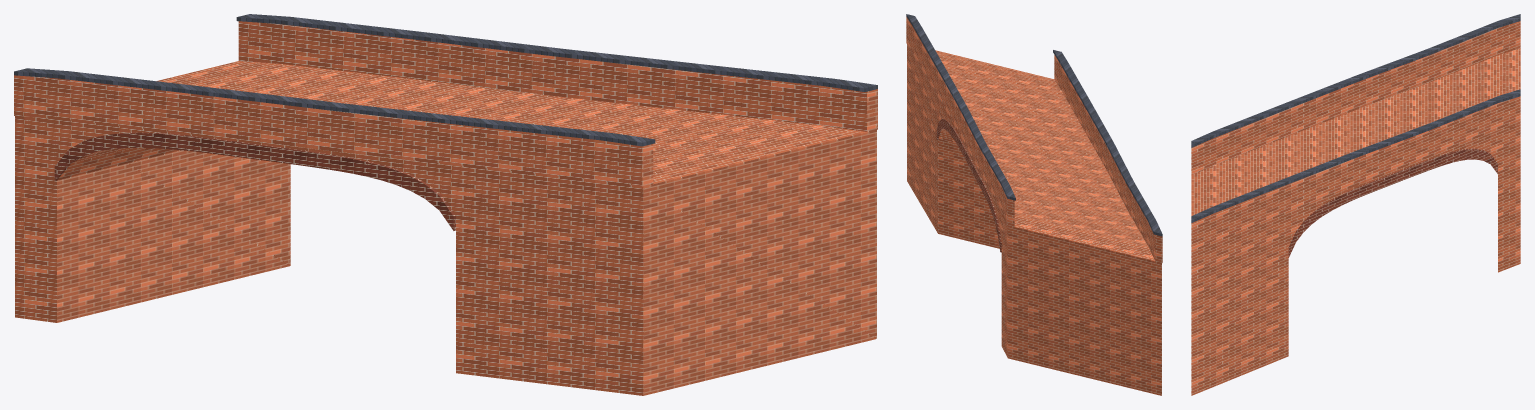
File: bridge-5.glb
3 views of the same model, side by side, from view 1: azimuth 30°, elevation 25°; view 2: azimuth 150°, elevation 25°; view 3: azimuth 270°, elevation 25° (orthographic). The views are drawn at different scales.
Visible parts, largest first — view 1: Masonry, Masonry.041, Masonry.001, Masonry.002, Masonry.005, Masonry.003, Masonry.004, Masonry.006, Masonry.007, Masonry.008, Masonry.009, Masonry.010 (+12 smaller); view 2: Masonry.043, Masonry.012, Masonry.042, Masonry.041, Masonry.002, Masonry.008, Masonry.006, Masonry.003, Masonry.004, Masonry.005, Masonry.007, Masonry.010 (+34 smaller); view 3: Masonry.007, Masonry.009, Masonry.011, Masonry.002, Masonry.004, Masonry.001, Masonry.005, Masonry.006, Masonry.003, Masonry.008, Masonry, Masonry.010 (+32 smaller).
Boxes of the visible parts, x1,y1,x2,y2 form: Masonry: (629,130,876,395); Masonry.041: (43,63,290,322); Masonry.001: (614,128,851,394); Masonry.002: (600,126,837,392); Masonry.005: (556,121,793,386); Masonry.003: (585,124,823,390); Masonry.004: (571,122,808,388); Masonry.006: (542,119,779,385); Masonry.007: (528,118,765,383); Masonry.008: (513,116,750,381); Masonry.009: (499,114,736,380); Masonry.010: (484,113,722,378); Masonry.043: (1006,223,1161,395); Masonry.012: (935,93,1084,248); Masonry.042: (1003,218,1152,353); Masonry.041: (1001,213,1150,349); Masonry.002: (911,52,1061,192); Masonry.008: (926,77,1075,217); Masonry.006: (921,68,1070,208); Masonry.003: (914,56,1063,196); Masonry.004: (916,60,1065,200); Masonry.005: (919,64,1068,204); Masonry.007: (923,73,1072,212); Masonry.010: (931,85,1080,224); Masonry.007: (1243,151,1251,374); Masonry.009: (1258,145,1266,368); Masonry.011: (1273,139,1281,361); Masonry.002: (1206,165,1213,389); Masonry.004: (1221,159,1228,383); Masonry.001: (1199,169,1206,392); Masonry.005: (1229,157,1236,380); Masonry.006: (1236,154,1243,377); Masonry.003: (1214,163,1221,386); Masonry.008: (1251,148,1258,371); Masonry: (1191,172,1198,395); Masonry.010: (1266,142,1273,365).
Bounding box in the file's own units: 20.1 × 7.81 × 13.2.
3 materials, 3 textured.
